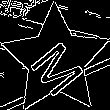M_NE: (22, 26, 89, 94)
